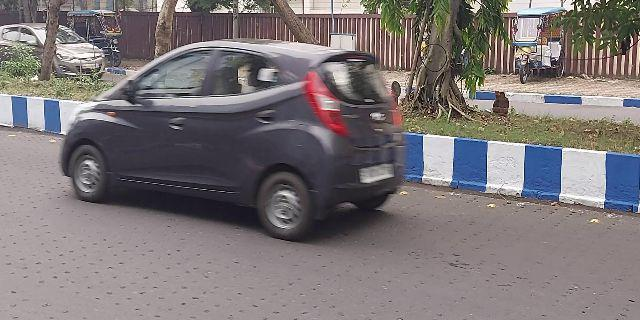Car: (60, 41, 411, 255), (4, 22, 107, 81)
Rickshaw: (512, 4, 568, 84), (70, 8, 137, 44)
